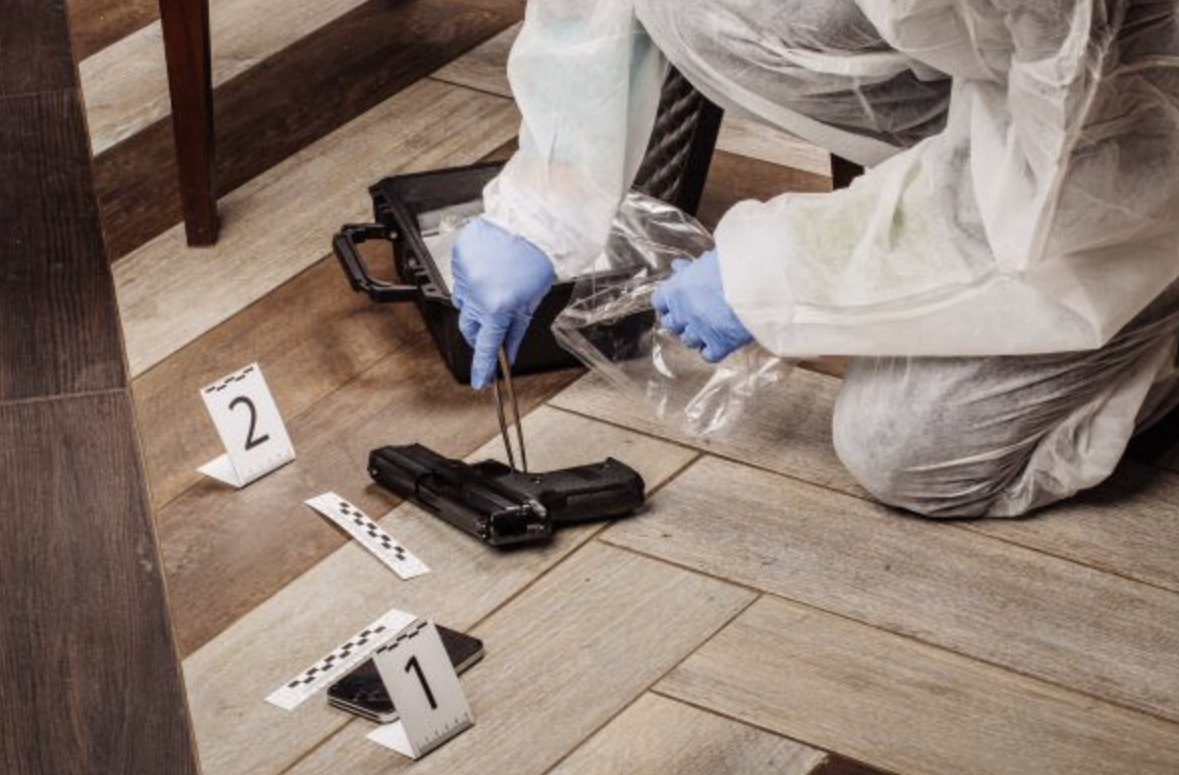gun_027: (354, 422, 664, 553)
